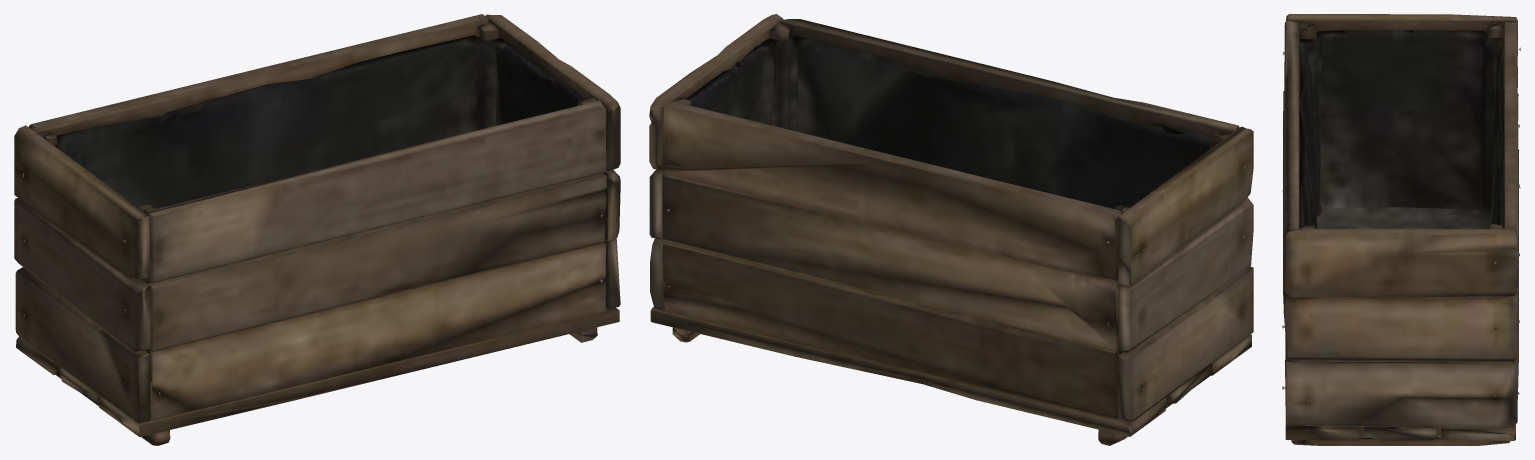
Rendered from planter_box_01_lod1.glb.
The picture shows the model from 3 angles, left to right: view 1: azimuth 30°, elevation 25°; view 2: azimuth 150°, elevation 25°; view 3: azimuth 270°, elevation 25°; orthographic projection. The views are drawn at different scales.
Visible parts, largest first — view 1: planter_box_01; view 2: planter_box_01; view 3: planter_box_01.
Part boxes in pixels (bbox=[...]): planter_box_01: bbox=[14, 14, 620, 445]; planter_box_01: bbox=[649, 14, 1253, 445]; planter_box_01: bbox=[1282, 14, 1520, 445].
Bounding box in the file's own units: 0.9126 × 0.4249 × 0.4135.
1 material, 1 textured.
